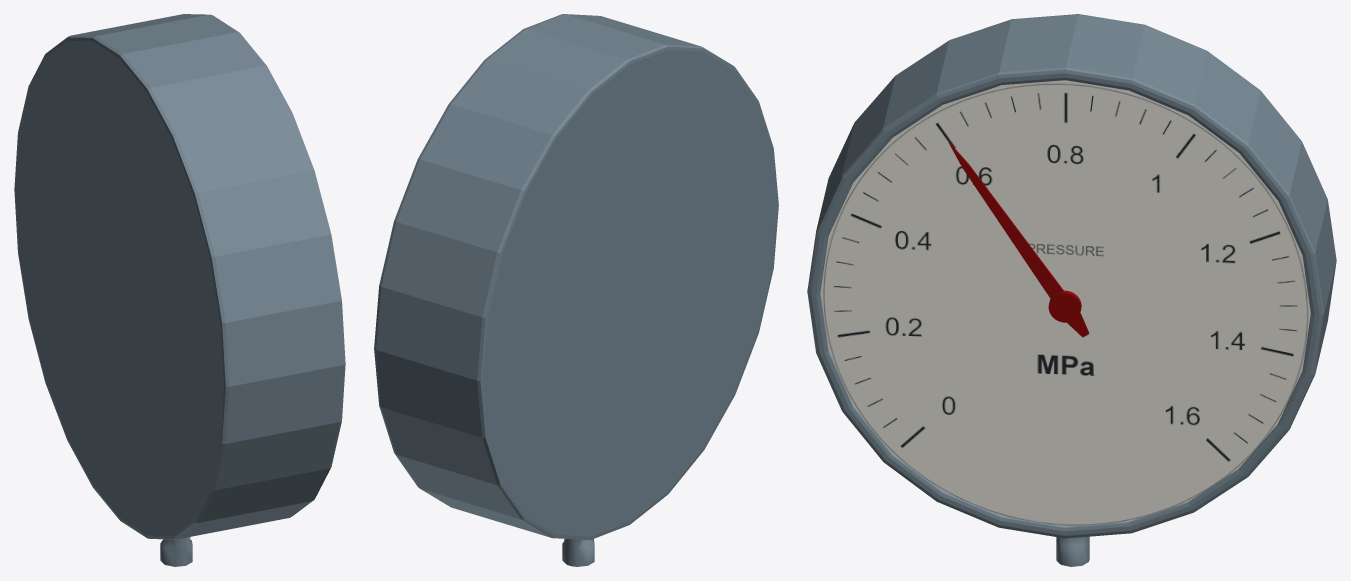
File: 压力表_独立指针.fbx
3 renders of one model, left to right at view 1: azimuth 30°, elevation 25°; view 2: azimuth 150°, elevation 25°; view 3: azimuth 270°, elevation 25°, orthographic.
Parts seen in each view (by area): view 1: 压力表_表壳, 压力表_过程接头; view 2: 压力表_表壳, 压力表_过程接头; view 3: 压力表_表盘, 压力表_表壳, 指针, 压力表_过程接头.
Boxes of the visible parts, x1,y1,x2,y2 form: 压力表_表壳: (14, 14, 345, 539); 压力表_过程接头: (160, 537, 192, 566); 压力表_表壳: (374, 14, 778, 539); 压力表_过程接头: (562, 539, 594, 566); 压力表_表盘: (820, 80, 1310, 526); 压力表_表壳: (807, 14, 1336, 538); 指针: (949, 142, 1088, 337); 压力表_过程接头: (1056, 536, 1089, 566).
Bounding box in the file's own units: 0.0249 × 0.0779 × 0.0718.
4 materials, 1 textured.
